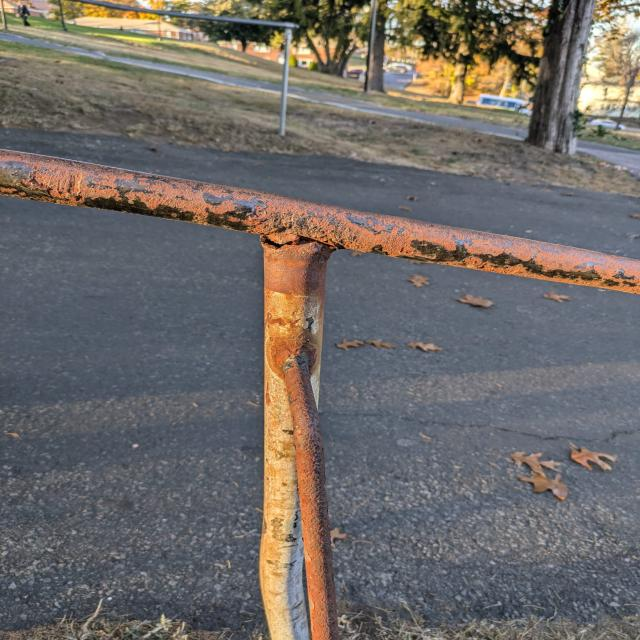Crevice Corrosion: (261, 235, 334, 265), (272, 340, 319, 380)
Filiform Corrosion: (1, 151, 640, 295), (260, 358, 310, 640)
Uniform Corrosion: (295, 432, 339, 640), (275, 261, 305, 294)
